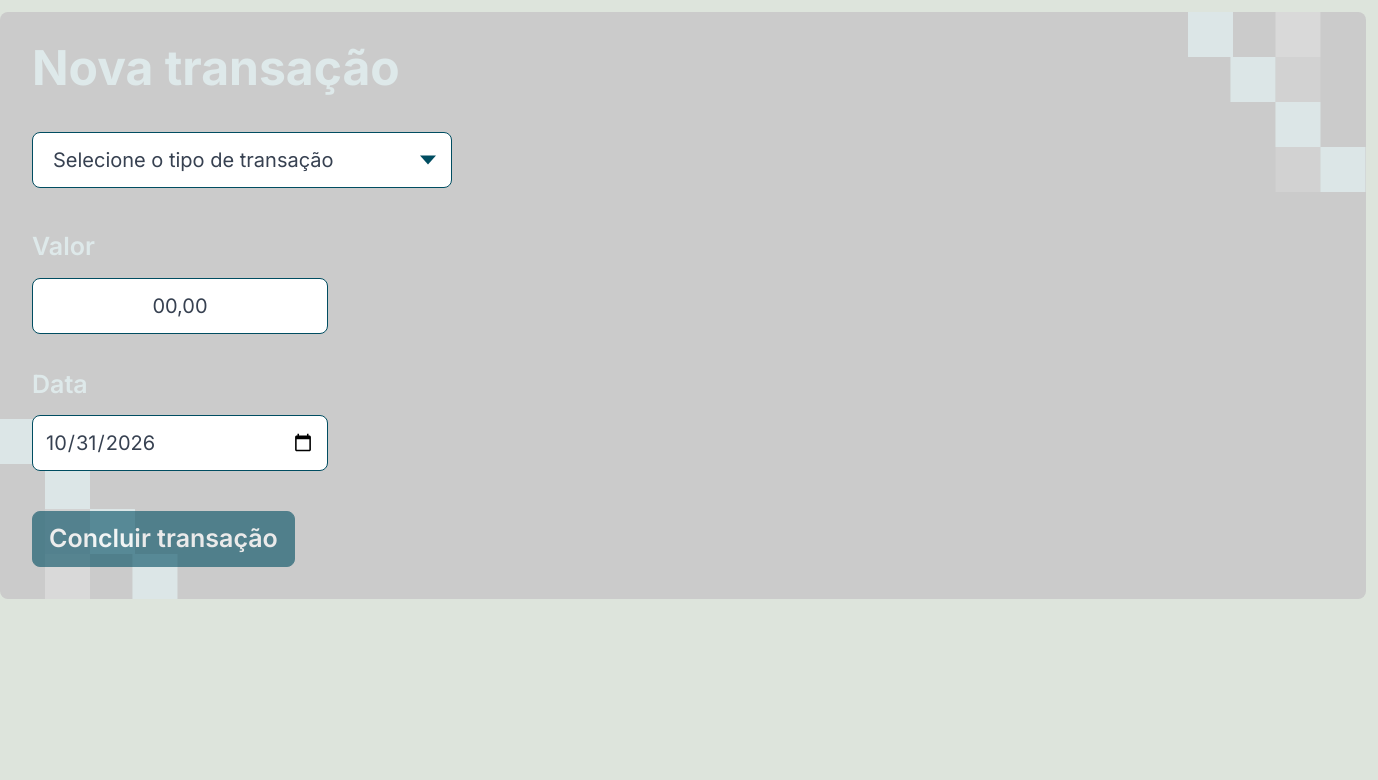
NewTransactionPanel › mantem submit desabilitado quando data esta fora do intervalo permitido
The width and height of the screenshot is (1378, 780).
Select "Depósito" in the dropdown named "Tipo de transação" at (242, 160), box left=32, top=132, right=452, bottom=188
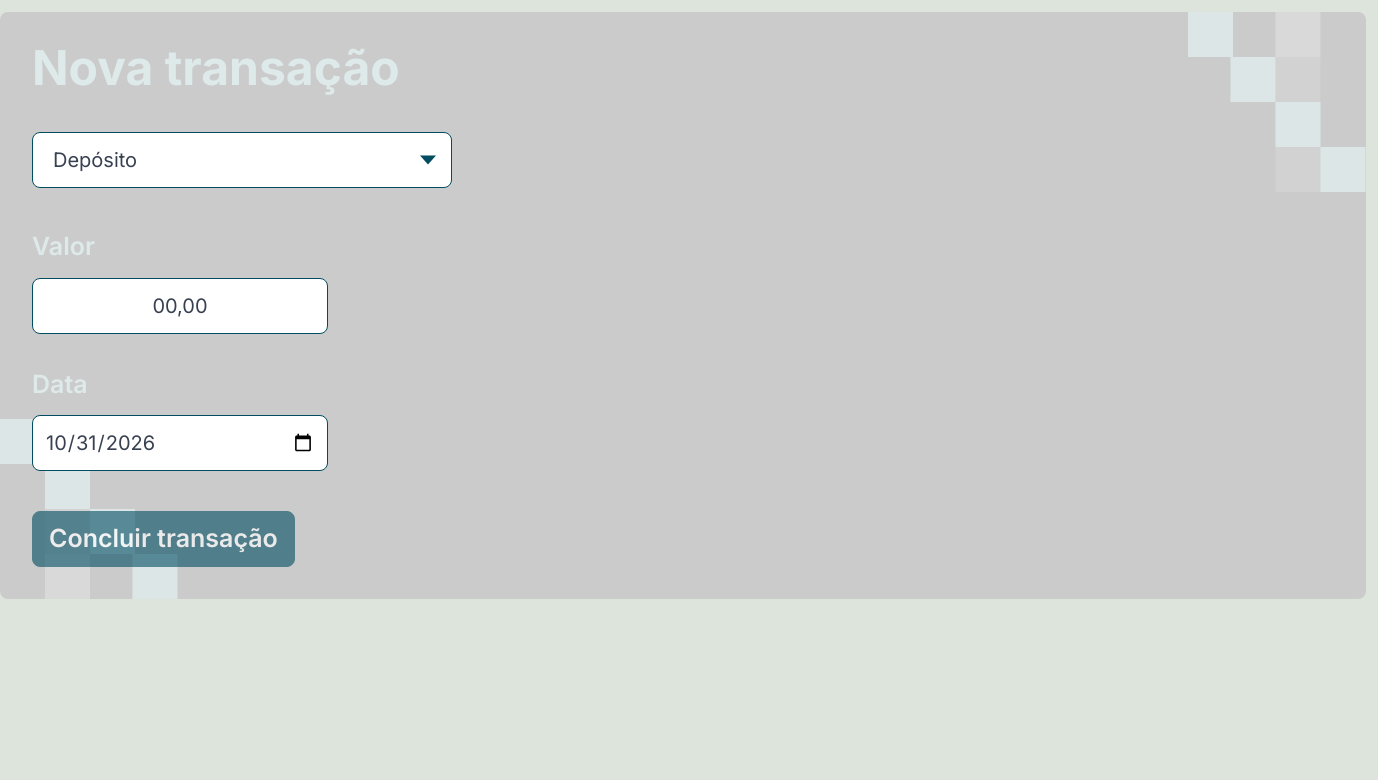
Replace the text in the field labelled "Valor" with "100" at (180, 306), box left=32, top=278, right=328, bottom=334
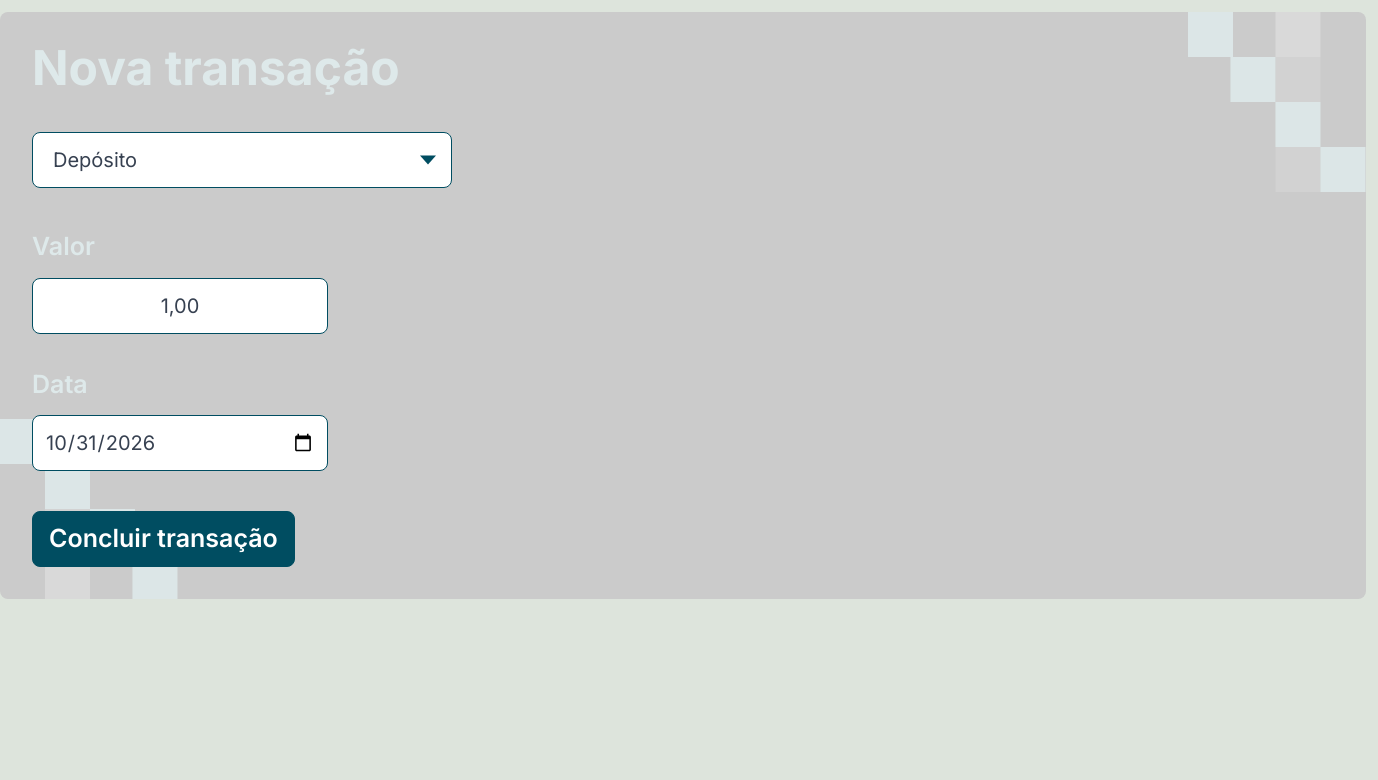
Type "275760-04-19" into the date field labelled "Data" at (180, 443), box left=32, top=415, right=328, bottom=471
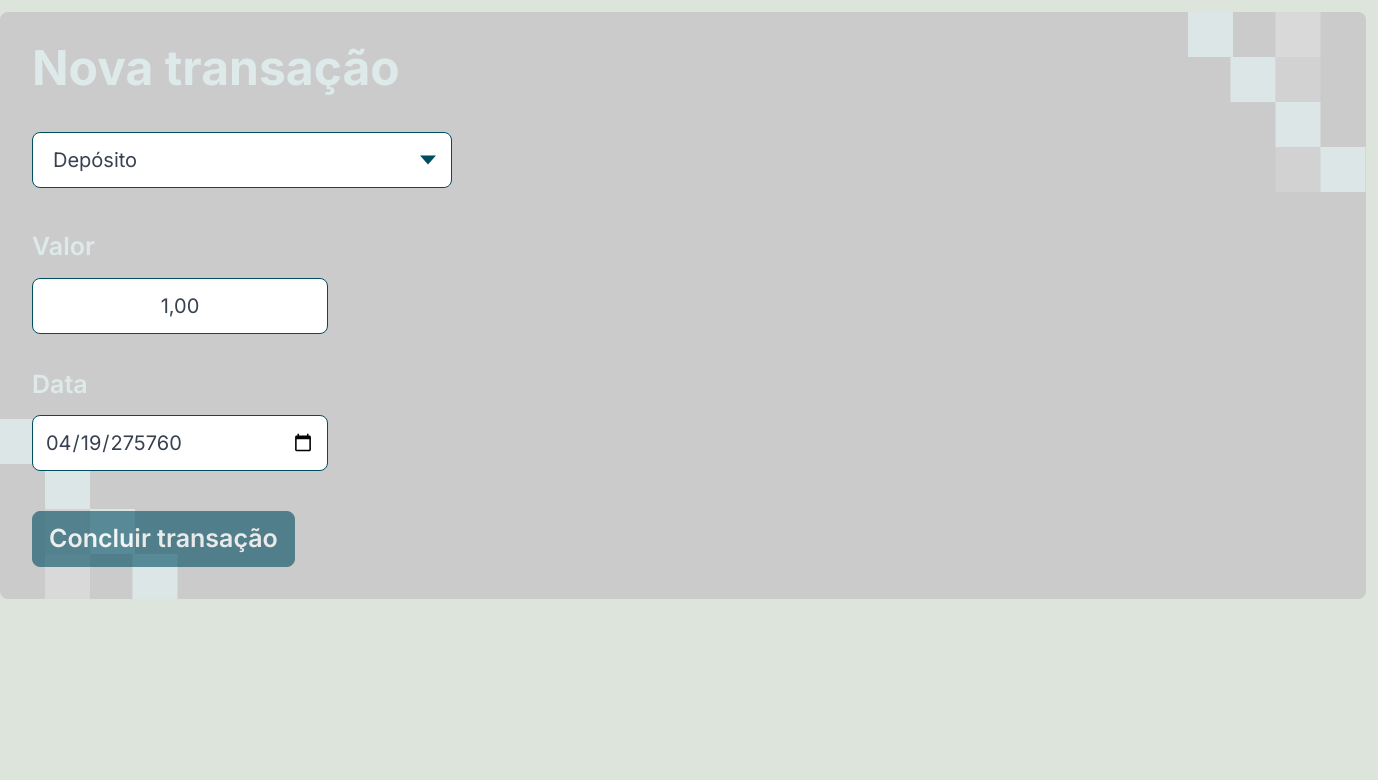
Leave the date field labelled "Data", box left=32, top=415, right=328, bottom=471
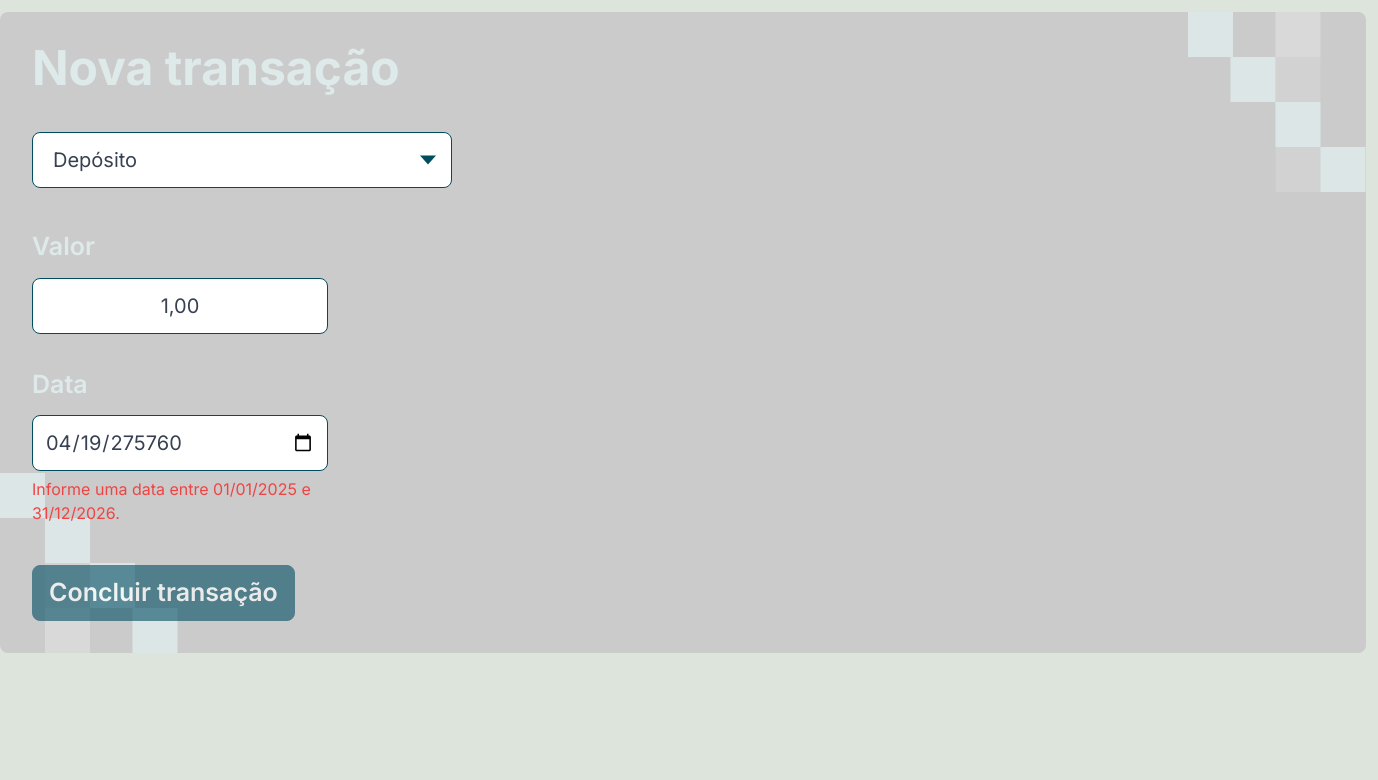
Expected: the button "Concluir transação" is disabled, left=32, top=565, right=295, bottom=621
Expected: the text "Informe uma data entre 01/01/2025 e 31/12/2026." is shown, left=32, top=477, right=328, bottom=525
